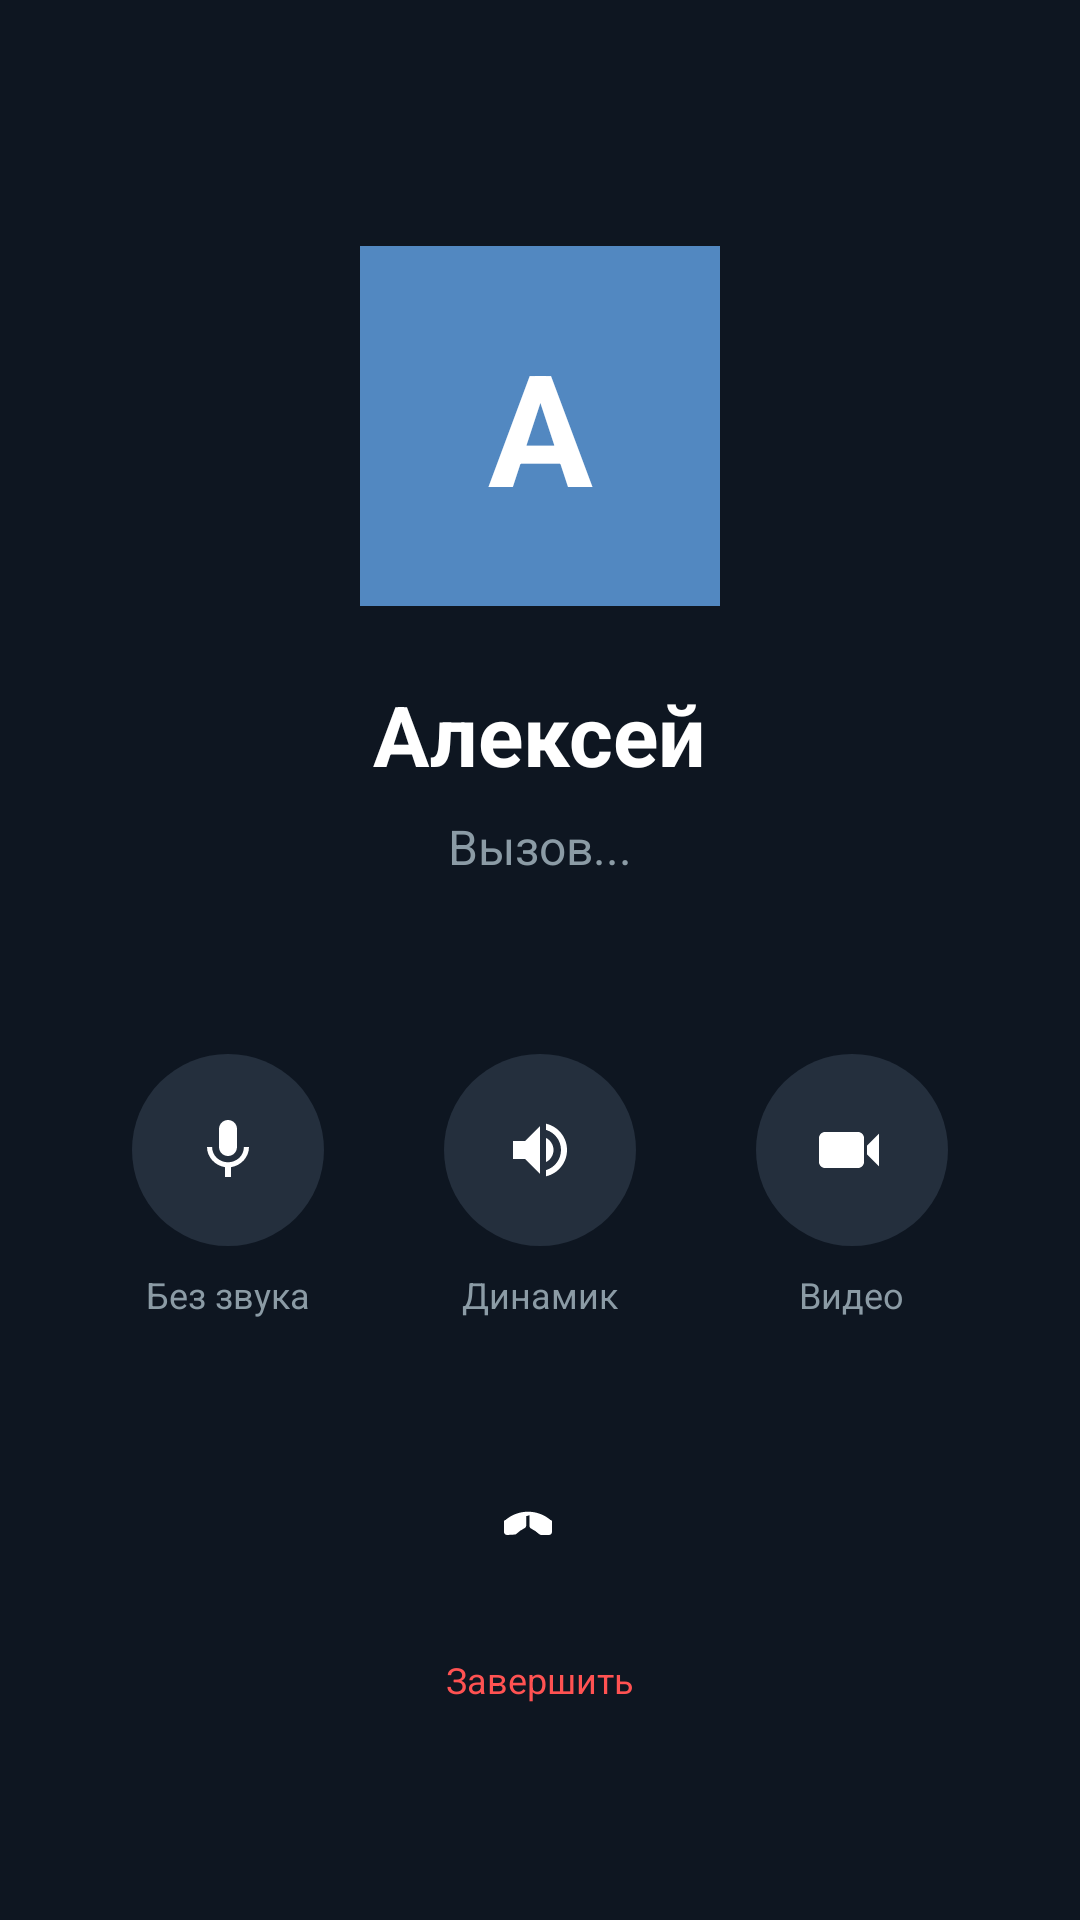

Icon click points for this 1080x1920 phone screenshot, format [x,y]:
call end: [528,1523]
mic: [228,1150]
